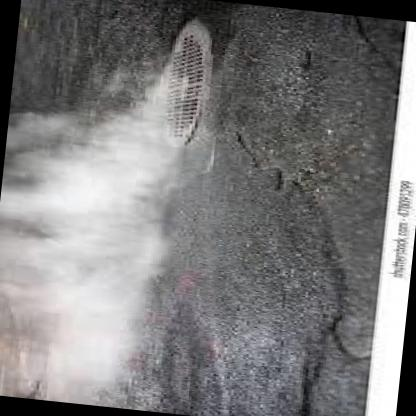manholes: (116, 4, 253, 166)
